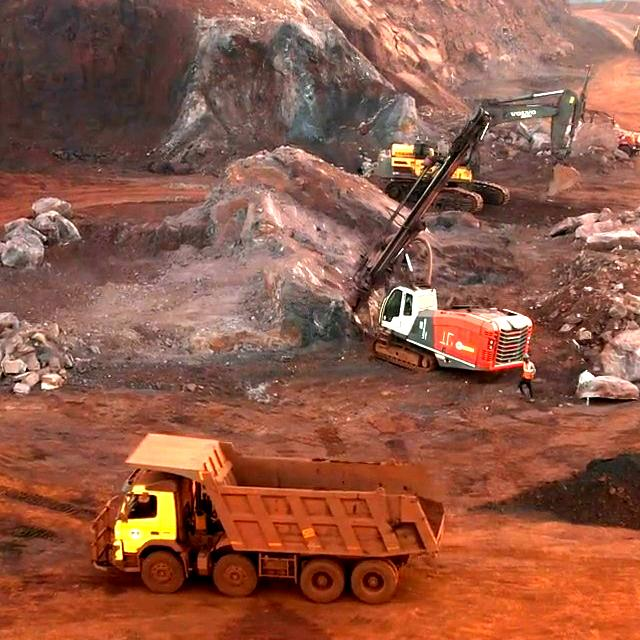Blast rig: (381, 289, 522, 368)
Dumper truck: (115, 457, 431, 590)
Excavator: (385, 131, 506, 200)
person: (519, 362, 541, 398)
